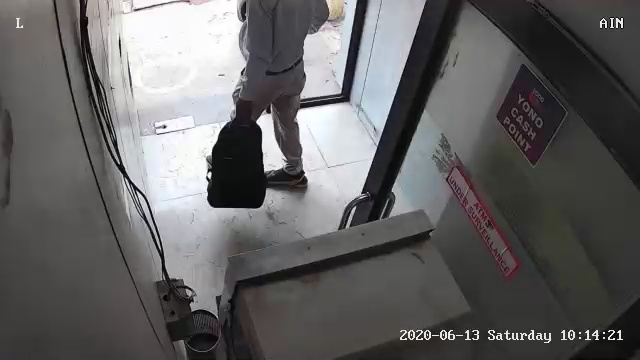open: (106, 6, 381, 142)
